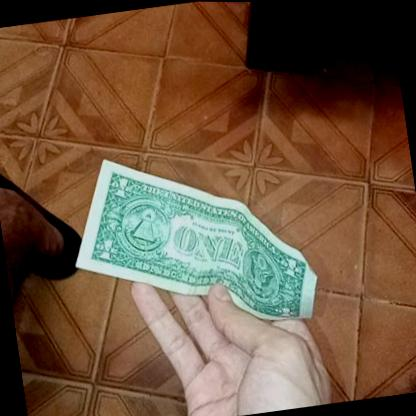one-back: (58, 127, 322, 350)
